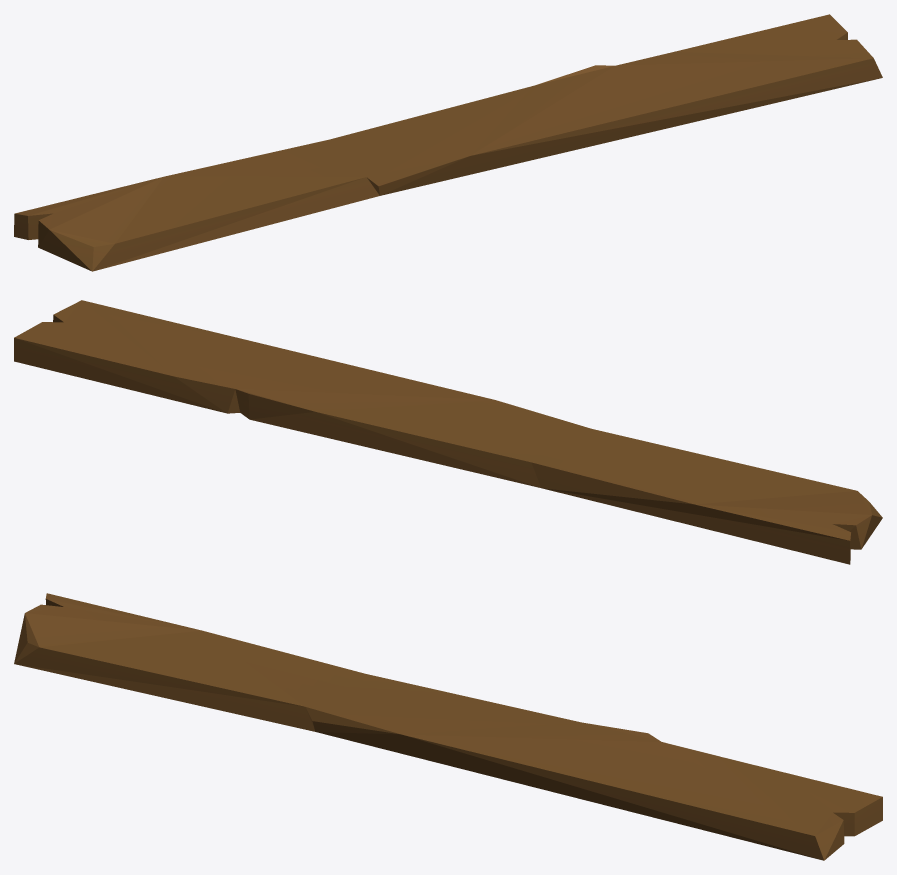
The model's file is Board_07.fbx.
3 renders of one model, top to bottom at view 1: azimuth 30°, elevation 25°; view 2: azimuth 150°, elevation 25°; view 3: azimuth 330°, elevation 25°, orthographic. The views are drawn at different scales.
Visible parts, largest first — view 1: Board_07; view 2: Board_07; view 3: Board_07.
Boxes of the visible parts, box(x1,y1,x2,y2) form: Board_07: box(14, 14, 882, 271); Board_07: box(14, 300, 882, 564); Board_07: box(14, 593, 882, 860).
Size of the model in its own units: 172 by 5.41 by 21.22.
